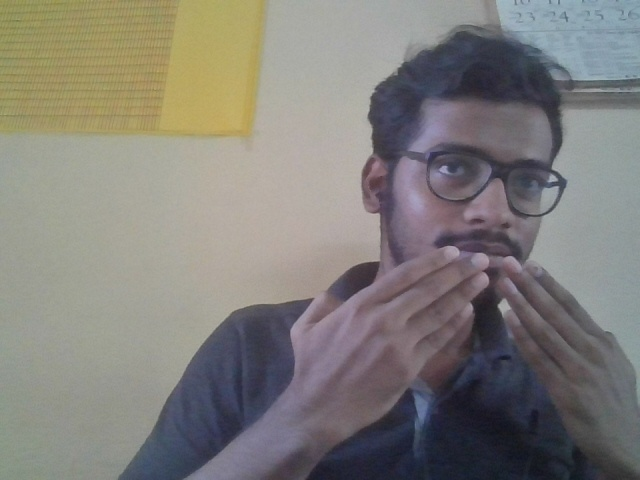ThankYou: (289, 245, 640, 454)
